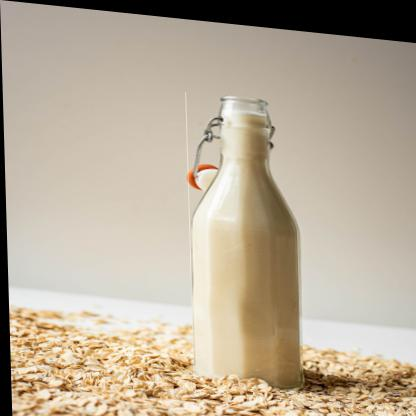milk: (185, 88, 300, 383)
